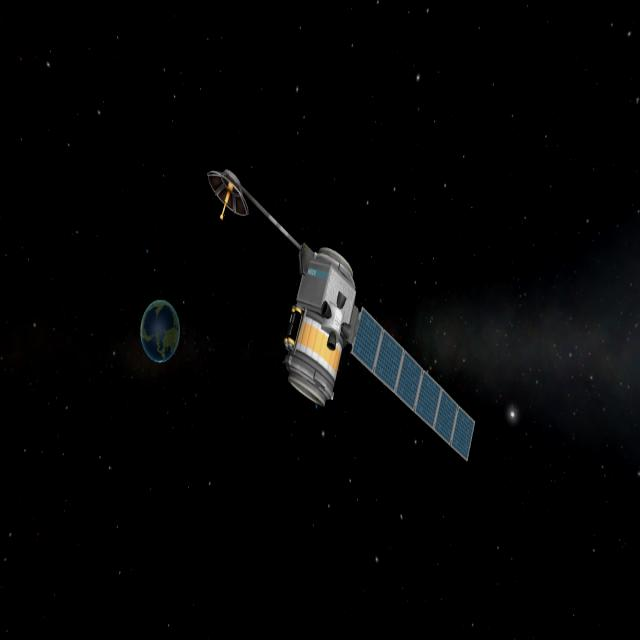satellite: (187, 151, 483, 487)
